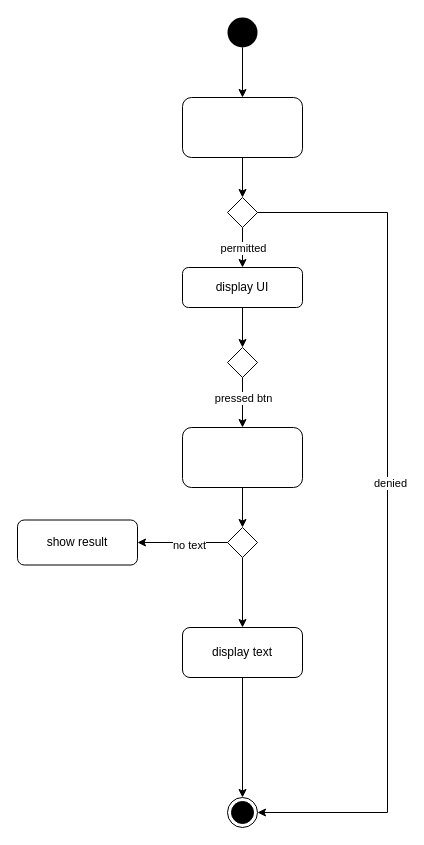
The diagram is 424 pixels wide and 845 high, and some of its shapes have lost their labels. Each missing label, with the box of its shape:
delegate ocr task to tesseract.js: (182, 426, 302, 488)
Request permission for camera: (182, 96, 302, 158)
